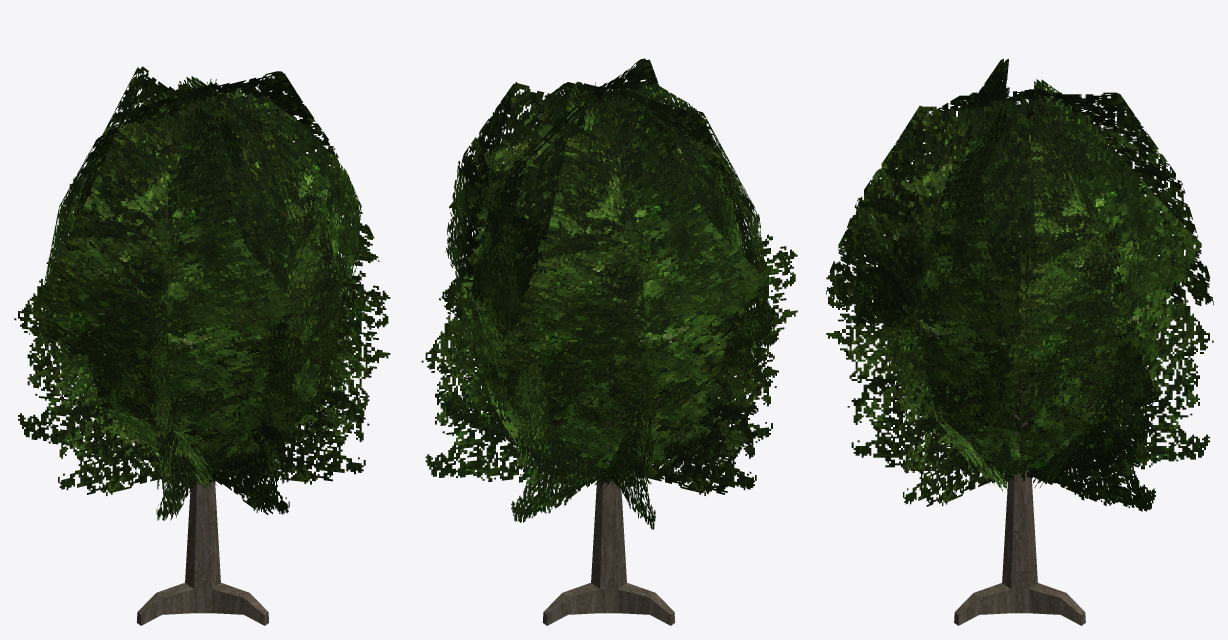
The model's file is tree04.glb.
3 renders of one model, left to right at view 1: azimuth 30°, elevation 25°; view 2: azimuth 150°, elevation 25°; view 3: azimuth 270°, elevation 25°, orthographic.
Parts seen in each view (by area): view 1: tree04_top, tree04; view 2: tree04_top, tree04; view 3: tree04_top, tree04.
Part boxes in pixels (box(x1,y1,x2,y2)): tree04_top: box(14, 66, 390, 520); tree04: box(136, 368, 269, 625); tree04_top: box(421, 58, 797, 529); tree04: box(542, 368, 675, 625); tree04_top: box(826, 58, 1213, 511); tree04: box(954, 297, 1085, 625).
Size of the model in its own units: 2.96 by 4.32 by 2.96.
Materials: 1 (1 with a texture image).
